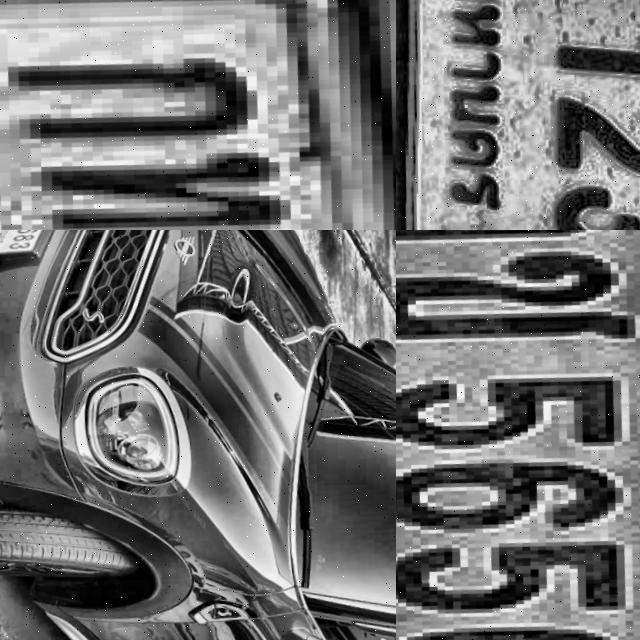license-plate: (396, 230, 640, 640), (0, 0, 396, 230), (396, 0, 640, 230), (0, 230, 76, 265)
